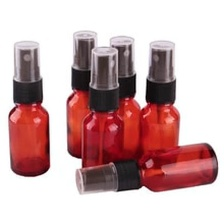bottle: (69, 138, 224, 199), (7, 36, 52, 181), (78, 43, 122, 173), (140, 33, 183, 157), (65, 28, 101, 163), (104, 30, 140, 162)
